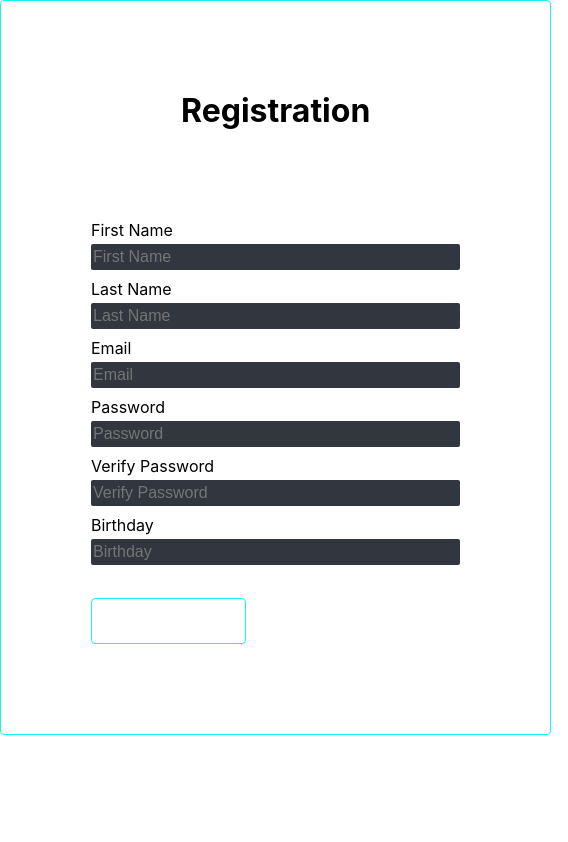
it: Test that the name does not allow more than 24 characters
In the field with placeholder "First Name": [276, 257] box [91, 244, 460, 270], type "SUPERLONGNAMETHATSHOULDCAUSEFAILURE"
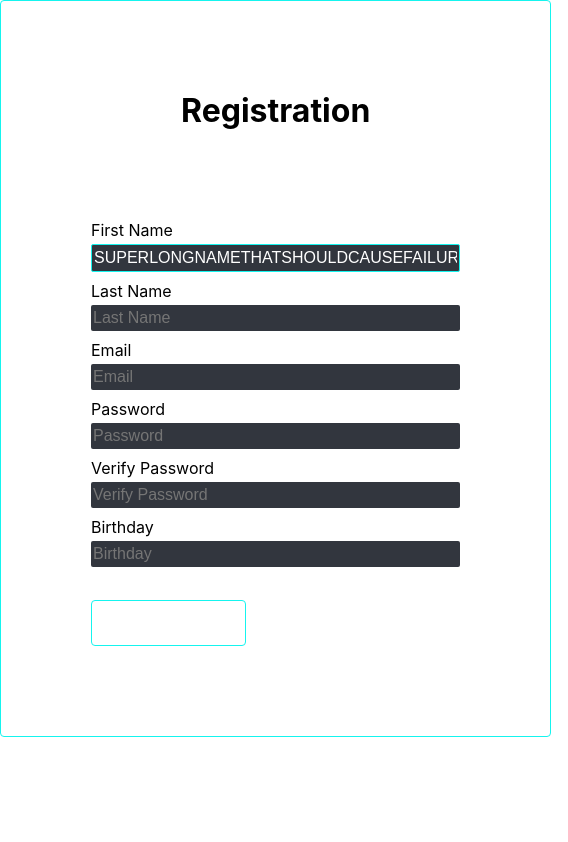
Click the button "Register": [169, 623] box [91, 600, 246, 646]
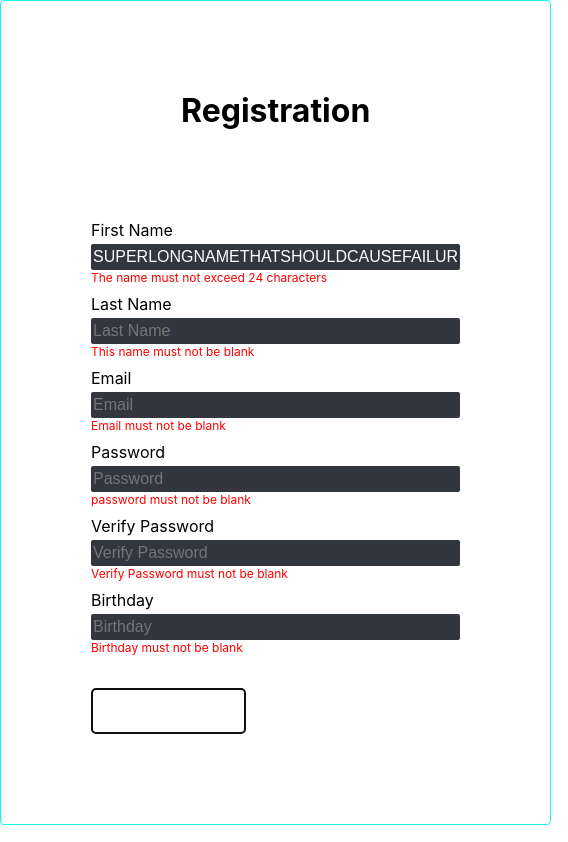
Check: the text "The name must not exceed 24 characters" is shown, box [91, 270, 327, 285]
